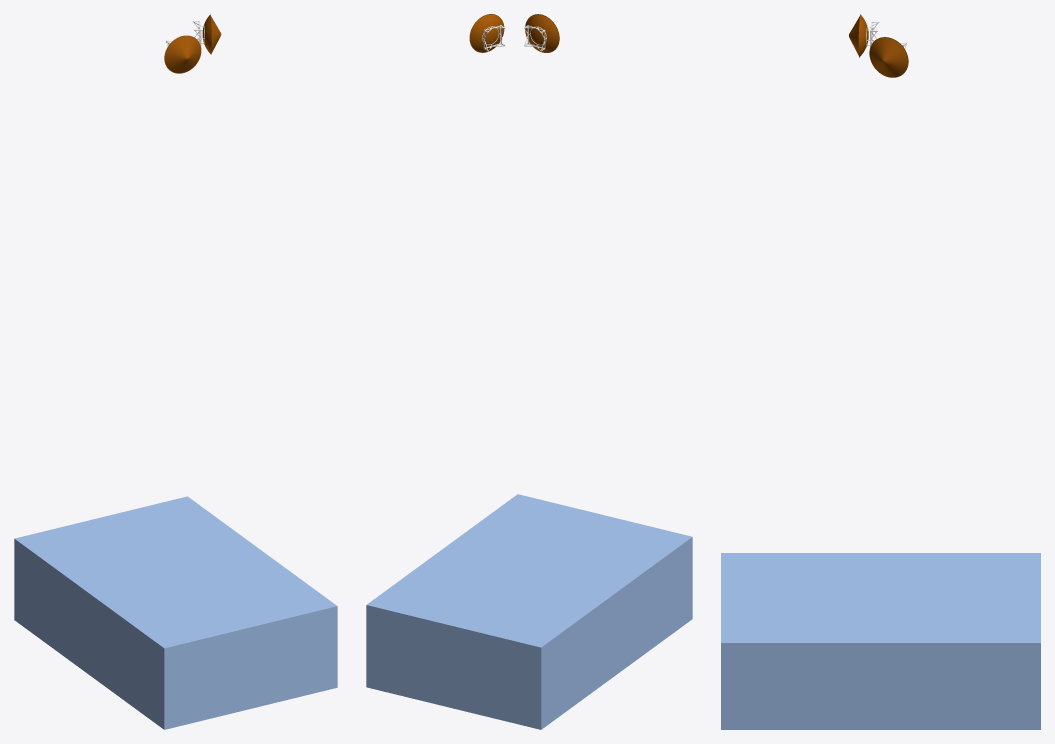
The picture shows the model from 3 angles, left to right: view 1: azimuth 30°, elevation 25°; view 2: azimuth 150°, elevation 25°; view 3: azimuth 270°, elevation 25°; orthographic projection. The views are drawn at different scales.
Parts seen in each view (by area): view 1: group_50, group_37.004; view 2: group_50, group_37, group_37.004; view 3: group_50, group_37, group_37.004.
Part boxes in pixels (box(x1,y1,x2,y2)): group_50: box(14, 496, 337, 729); group_37.004: box(165, 36, 200, 72); group_50: box(366, 494, 692, 729); group_37: box(470, 14, 503, 52); group_37.004: box(525, 14, 558, 52); group_50: box(721, 553, 1040, 729); group_37: box(870, 37, 907, 77); group_37.004: box(849, 15, 868, 56).
Bounding box in the file's own units: 10 × 34.53 × 15.
